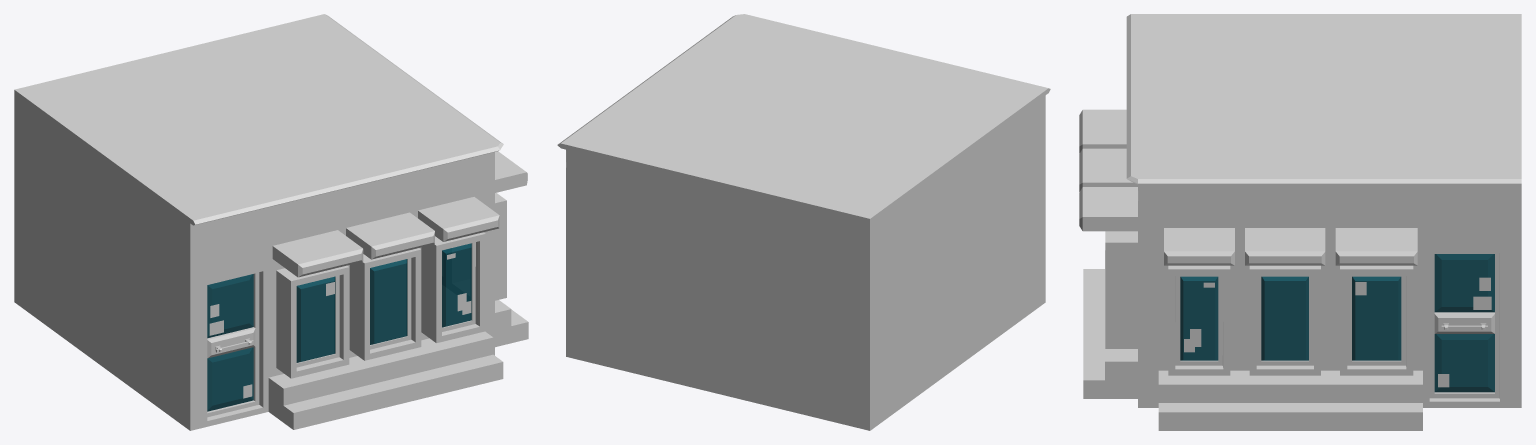
File: building_shop_corner_04.fbx
3 views of the same model, side by side, from view 1: azimuth 30°, elevation 25°; view 2: azimuth 150°, elevation 25°; view 3: azimuth 270°, elevation 25° (orthographic). The views are drawn at different scales.
Parts seen in each view (by area): view 1: building_shop_corner_04, building_shop_corner_04_glass; view 2: building_shop_corner_04; view 3: building_shop_corner_04, building_shop_corner_04_glass.
Part boxes in pixels (x1,y1,x2,y2): building_shop_corner_04: (14, 14, 528, 430); building_shop_corner_04_glass: (207, 243, 471, 411); building_shop_corner_04: (557, 14, 1050, 430); building_shop_corner_04: (1079, 14, 1521, 430); building_shop_corner_04_glass: (1180, 254, 1494, 392).
Bounding box in the file's own units: 691 × 400 × 691.
